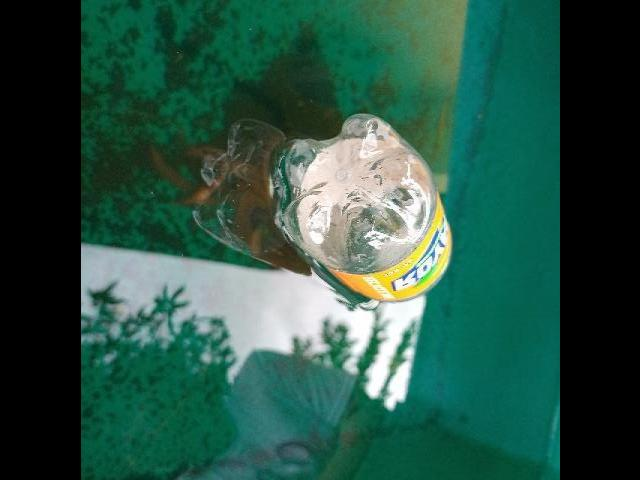Bottle: (268, 114, 454, 310)
